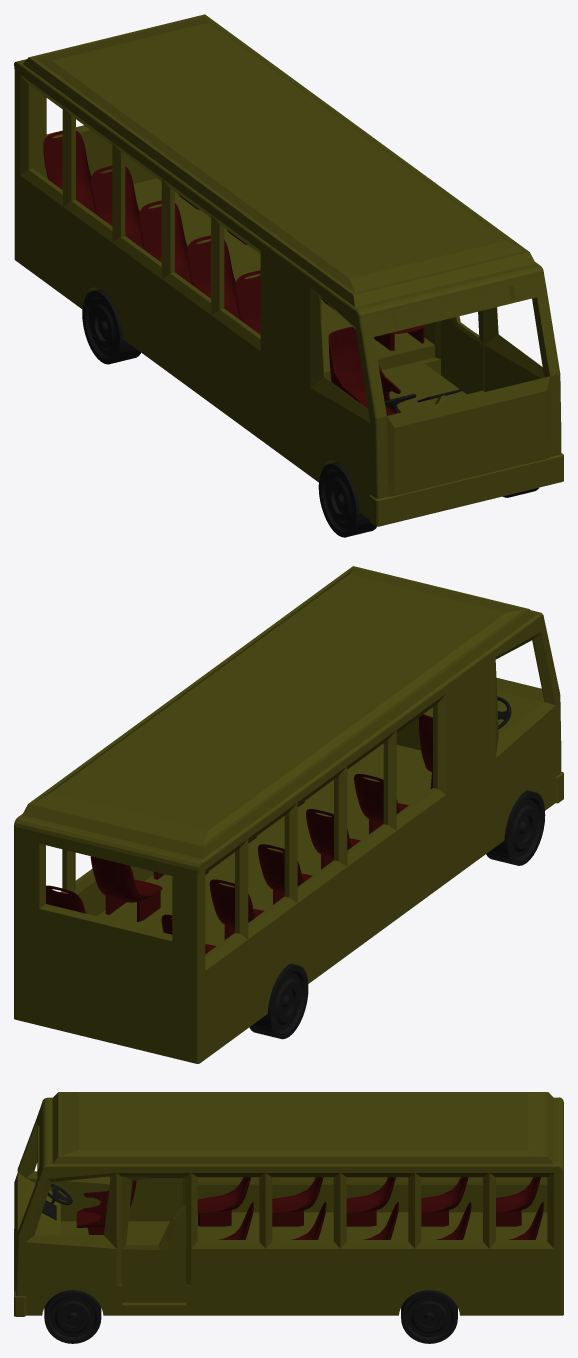
File: Fix_Bus_Tes_2.fbx
The picture shows the model from 3 angles, top to bottom: view 1: azimuth 30°, elevation 25°; view 2: azimuth 150°, elevation 25°; view 3: azimuth 270°, elevation 25°; orthographic projection. The views are drawn at different scales.
Visible parts, largest first — view 1: Bus_Body, PassChair, Tires, Door, Driver_Chair; view 2: Bus_Body, PassChair, Tires, Driver_Chair; view 3: Bus_Body, PassChair, Door, Tires, Driver_Chair.
Boxes of the visible parts, x1=… form: Bus_Body: x1=14, y1=14, x2=563, y2=526; PassChair: x1=43, y1=130, x2=426, y2=350; Tires: x1=82, y1=289, x2=538, y2=537; Door: x1=440, y1=310, x2=483, y2=394; Driver_Chair: x1=328, y1=326, x2=401, y2=415; Bus_Body: x1=14, y1=566, x2=563, y2=1063; PassChair: x1=46, y1=773, x2=408, y2=954; Tires: x1=249, y1=790, x2=545, y2=1039; Driver_Chair: x1=418, y1=714, x2=432, y2=788; Bus_Body: x1=14, y1=1092, x2=563, y2=1316; PassChair: x1=197, y1=1177, x2=543, y2=1239; Door: x1=121, y1=1176, x2=185, y2=1302; Tires: x1=44, y1=1290, x2=457, y2=1343; Driver_Chair: x1=76, y1=1180, x2=136, y2=1234.
Size of the model in its own units: 534 by 675 by 1789.
